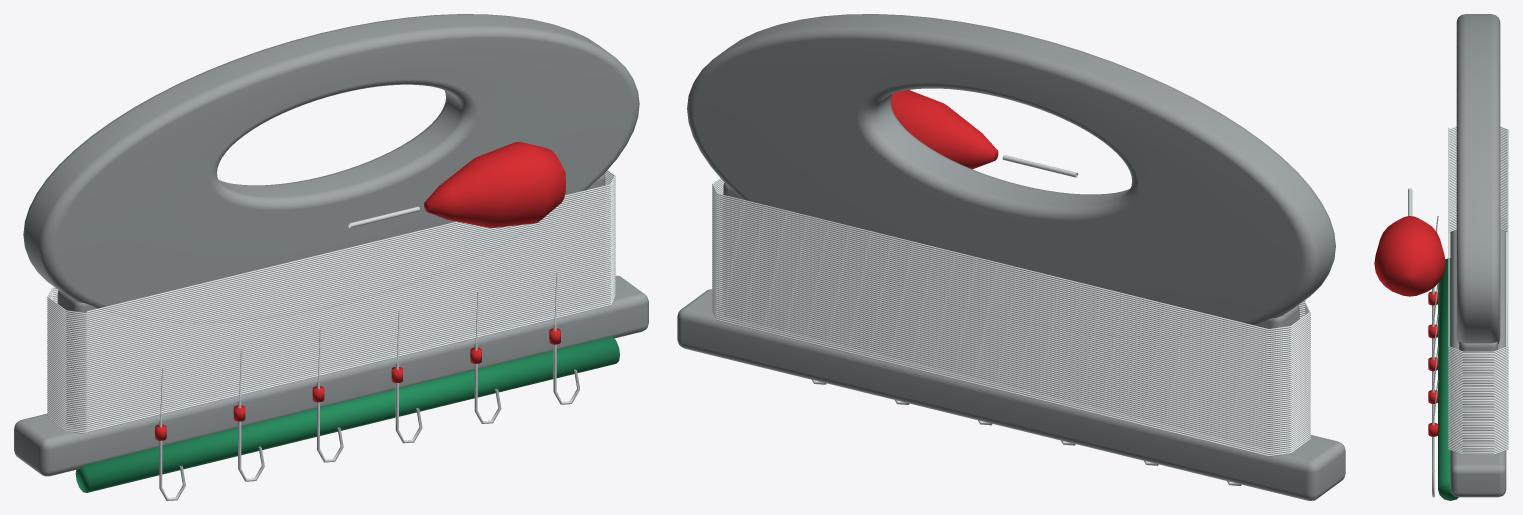
Rendered from harpe.glb.
3 renders of one model, left to right at view 1: azimuth 30°, elevation 25°; view 2: azimuth 150°, elevation 25°; view 3: azimuth 270°, elevation 25°, orthographic. The views are drawn at different scales.
Visible parts, largest first — view 1: Moulded handle with finger opening, Lower flared lip, Winding waist, Green hook storage strip, Red teardrop sinker, Wound monofilament 11, Wound monofilament 15, Wound monofilament 30, Wound monofilament 32, Wound monofilament 21, Wound monofilament 20, Wound monofilament 25 (+57 smaller); view 2: Moulded handle with finger opening, Lower flared lip, Winding waist, Red teardrop sinker, Wound monofilament 00, Wound monofilament 02, Wound monofilament 03, Wound monofilament 01, Wound monofilament 04, Wound monofilament 05, Wound monofilament 06, Wound monofilament 07 (+56 smaller); view 3: Moulded handle with finger opening, Red teardrop sinker, Lower flared lip, Green hook storage strip, Winding waist, Wound monofilament 00, Stainless J hook.005, Wound monofilament 15.
Boxes of the visible parts, left/top/right/bottom form: Moulded handle with finger opening: left=23, top=14, right=639, bottom=323; Lower flared lip: left=14, top=275, right=648, bottom=476; Winding waist: left=57, top=174, right=605, bottom=428; Green hook storage strip: left=75, top=336, right=619, bottom=492; Red teardrop sinker: left=424, top=142, right=565, bottom=227; Wound monofilament 11: left=47, top=190, right=615, bottom=335; Wound monofilament 15: left=47, top=198, right=615, bottom=343; Wound monofilament 30: left=47, top=226, right=615, bottom=371; Wound monofilament 32: left=47, top=230, right=615, bottom=375; Wound monofilament 21: left=47, top=209, right=615, bottom=354; Wound monofilament 20: left=47, top=207, right=615, bottom=352; Wound monofilament 25: left=47, top=217, right=615, bottom=362; Moulded handle with finger opening: left=687, top=14, right=1335, bottom=339; Lower flared lip: left=677, top=289, right=1345, bottom=500; Winding waist: left=723, top=182, right=1299, bottom=450; Red teardrop sinker: left=891, top=90, right=998, bottom=169; Wound monofilament 00: left=712, top=178, right=1310, bottom=330; Wound monofilament 02: left=712, top=181, right=1310, bottom=334; Wound monofilament 03: left=712, top=182, right=1310, bottom=336; Wound monofilament 01: left=712, top=179, right=1310, bottom=332; Wound monofilament 04: left=712, top=184, right=1310, bottom=338; Wound monofilament 05: left=712, top=186, right=1310, bottom=340; Wound monofilament 06: left=712, top=188, right=1310, bottom=342; Wound monofilament 07: left=712, top=190, right=1310, bottom=344; Moulded handle with finger opening: left=1456, top=14, right=1500, bottom=343; Red teardrop sinker: left=1374, top=216, right=1445, bottom=296; Lower flared lip: left=1450, top=219, right=1506, bottom=497; Green hook storage strip: left=1438, top=258, right=1458, bottom=500; Winding waist: left=1459, top=341, right=1497, bottom=450; Wound monofilament 00: left=1448, top=126, right=1508, bottom=352; Stainless J hook.005: left=1432, top=419, right=1434, bottom=497; Wound monofilament 15: left=1448, top=150, right=1508, bottom=377.
Size of the model in its own units: 0.386 by 0.2408 by 0.0864.
